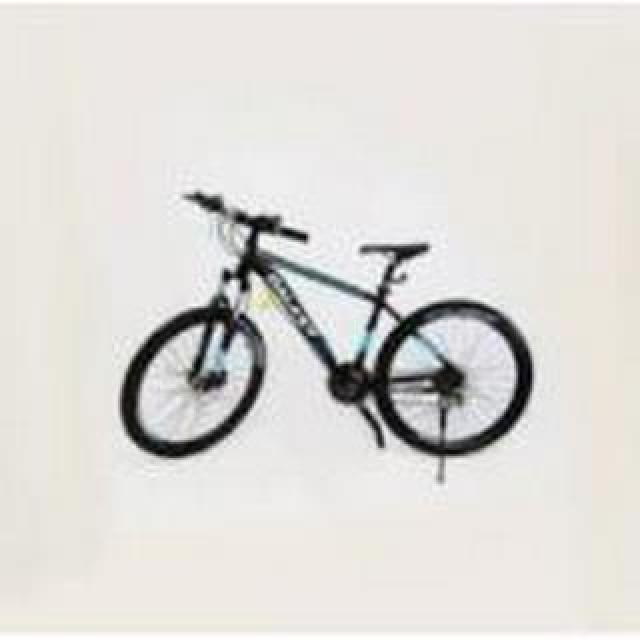Person: (119, 185, 539, 469)
